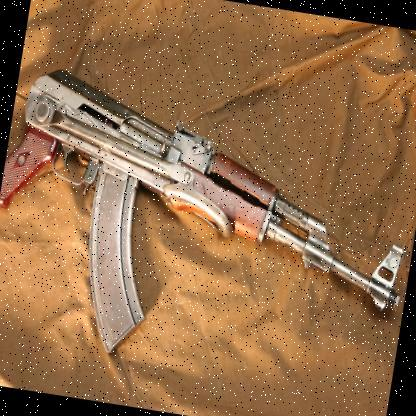rifle: (0, 42, 416, 414)
